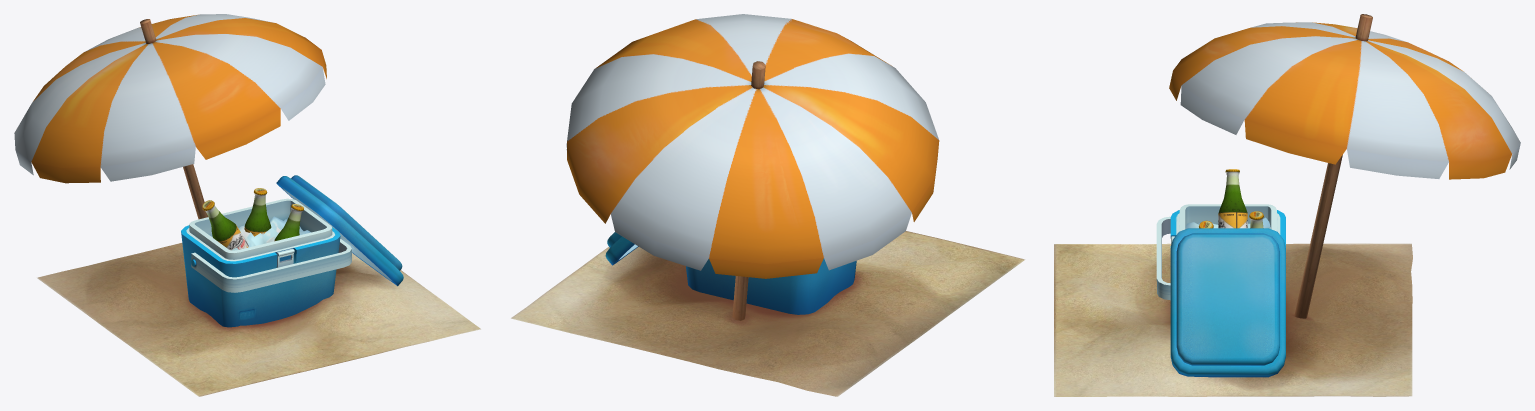
The model's file is beach_umbrella_cooler_bag_with_drinks.glb.
The picture shows the model from 3 angles, left to right: view 1: azimuth 30°, elevation 25°; view 2: azimuth 150°, elevation 25°; view 3: azimuth 270°, elevation 25°; orthographic projection. The views are drawn at different scales.
Parts seen in each view (by area): view 1: Circle.001, Plane.004, Plane, Plane.001, Circle, Circle.003, Plane.002, Circle.002; view 2: Circle.001, Plane.004, Plane; view 3: Circle.001, Plane.004, Plane, Circle, Plane.001.
Boxes of the visible parts, x1=… form: Circle.001: x1=14, y1=14, x2=326, y2=219; Plane.004: x1=37, y1=243, x2=480, y2=396; Plane: x1=181, y1=175, x2=403, y2=327; Plane.001: x1=191, y1=239, x2=351, y2=292; Circle: x1=202, y1=200, x2=248, y2=250; Circle.003: x1=244, y1=188, x2=271, y2=236; Plane.002: x1=209, y1=216, x2=310, y2=250; Circle.002: x1=274, y1=204, x2=303, y2=241; Circle.001: x1=566, y1=14, x2=939, y2=320; Plane.004: x1=511, y1=231, x2=1025, y2=396; Plane: x1=605, y1=232, x2=856, y2=314; Circle.001: x1=1169, y1=14, x2=1520, y2=318; Plane.004: x1=1054, y1=243, x2=1412, y2=396; Plane: x1=1170, y1=204, x2=1285, y2=377; Circle: x1=1218, y1=169, x2=1247, y2=228; Plane.001: x1=1156, y1=216, x2=1170, y2=300.
Size of the model in its own units: 1.31 by 1.05 by 1.52.
Materials: 4 (4 with a texture image).
